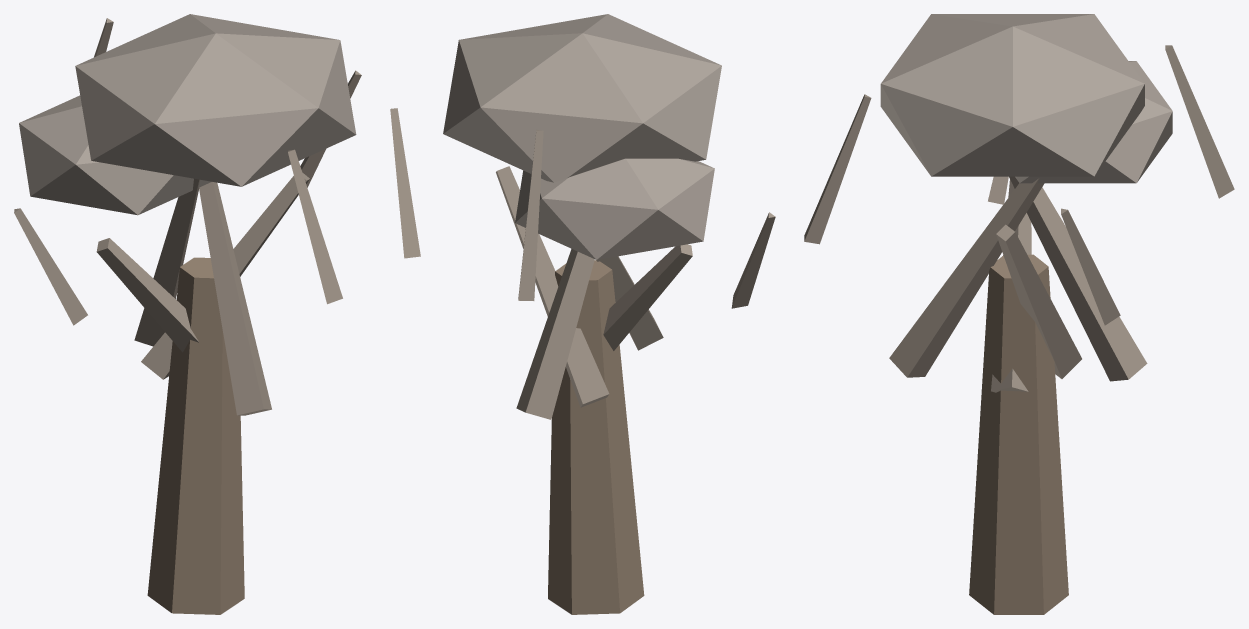
The model's file is tree_bare.glb.
The picture shows the model from 3 angles, left to right: view 1: azimuth 30°, elevation 25°; view 2: azimuth 150°, elevation 25°; view 3: azimuth 270°, elevation 25°; orthographic projection. The views are drawn at different scales.
Parts seen in each view (by area): view 1: tree_bare; view 2: tree_bare; view 3: tree_bare.
Part boxes in pixels (left/top/right/bottom): tree_bare: left=14, top=14, right=361, bottom=614; tree_bare: left=390, top=14, right=775, bottom=614; tree_bare: left=804, top=14, right=1234, bottom=614.
Size of the model in its own units: 0.3537 by 0.5179 by 0.3492.
